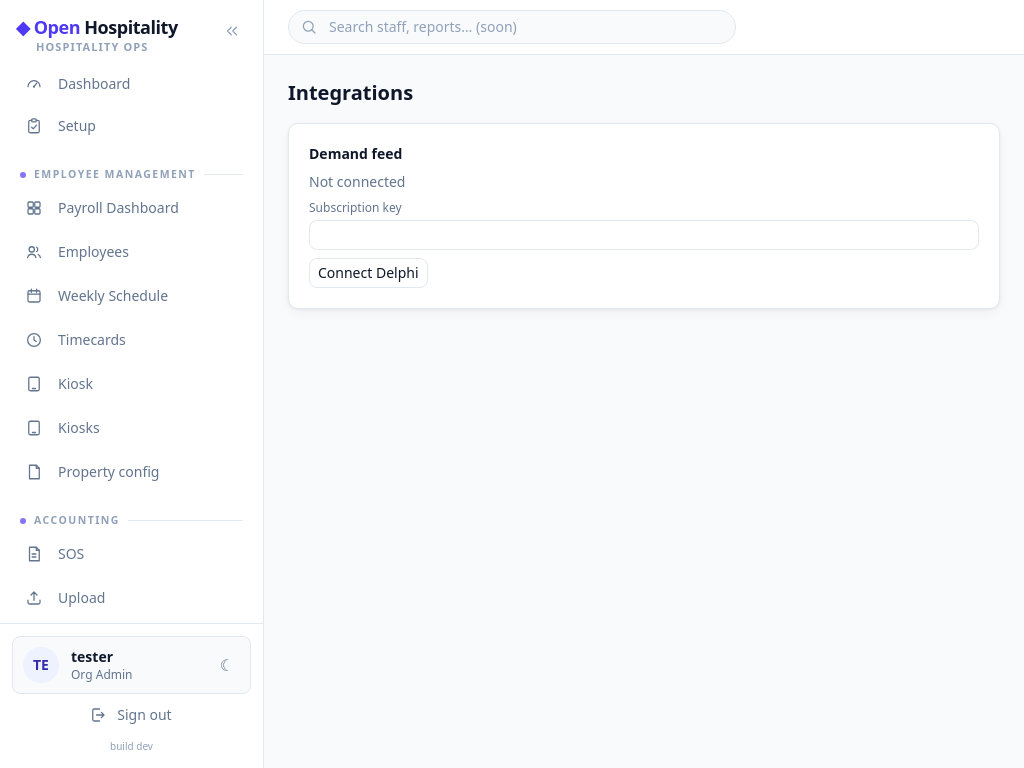
Test: IntegrationsPage › shows the backend refusal verbatim
Type "k-1" into the password field labelled "Subscription key" at [644, 235], box [309,220,979,250]
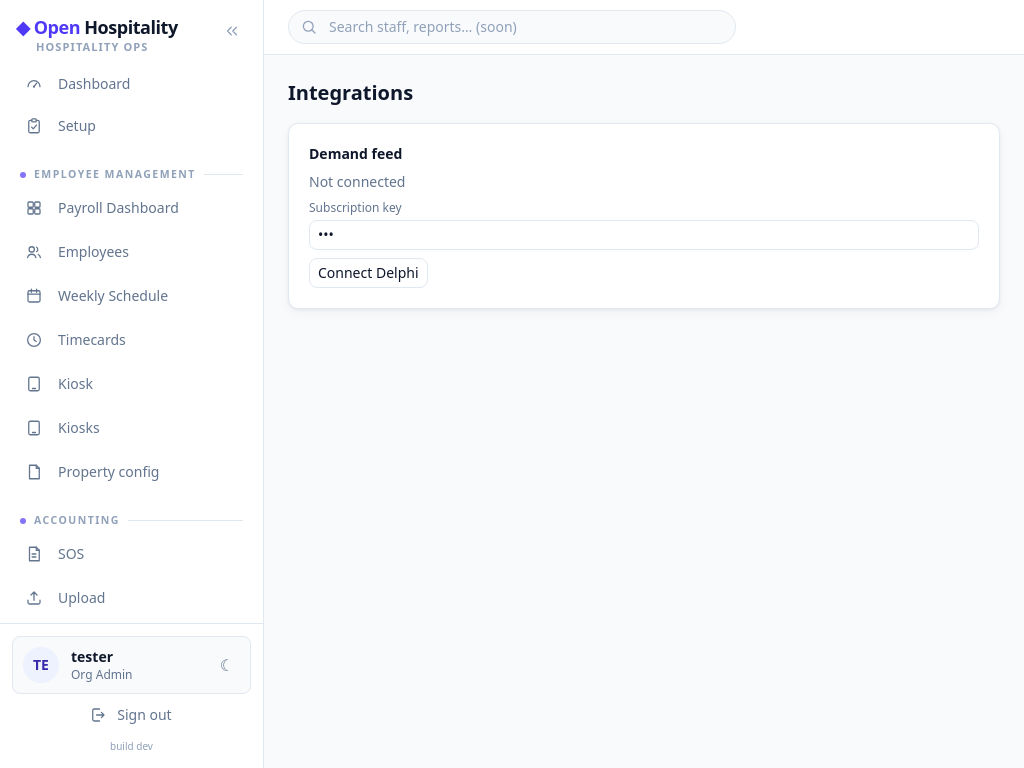
Click the button "Connect Delphi" at [368, 273], box [309,258,428,288]
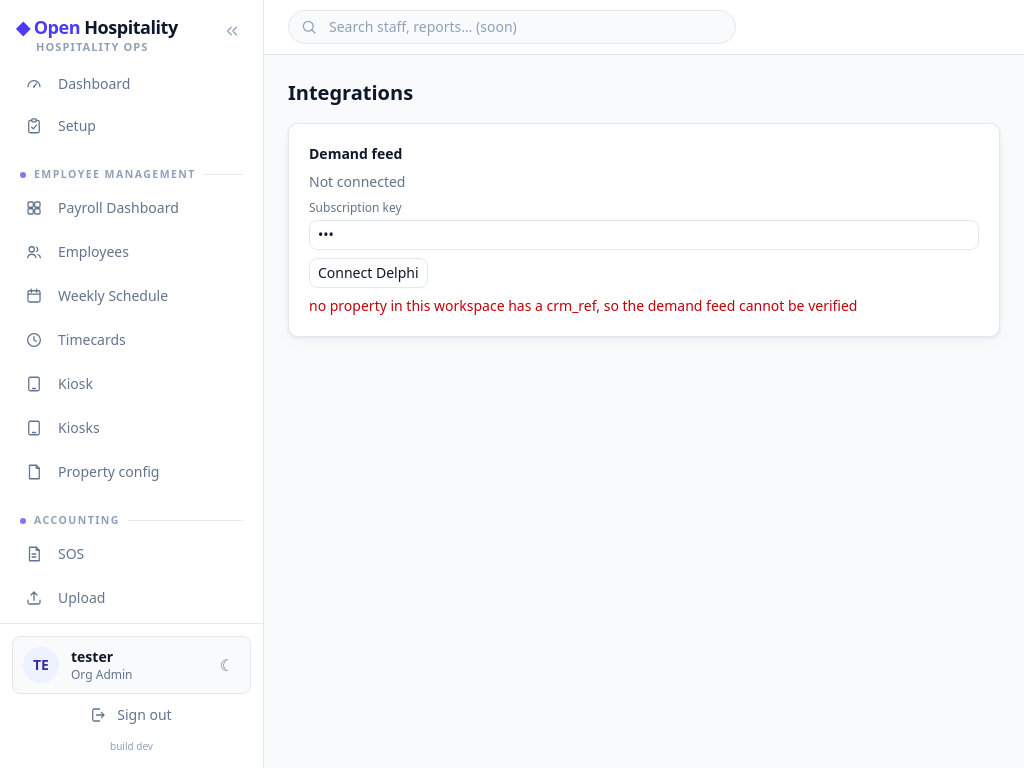
Expected: the text "has a crm_ref" is shown, [309,296,858,315]
